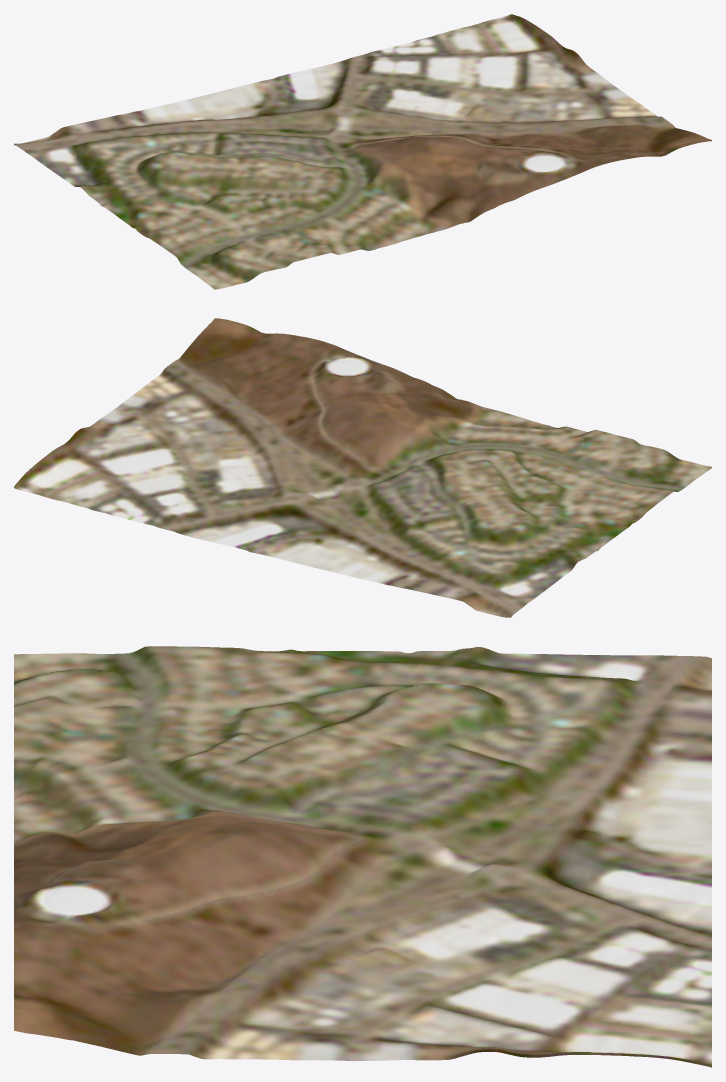
Rendered from terrain_r4_c5.glb.
The picture shows the model from 3 angles, top to bottom: view 1: azimuth 30°, elevation 25°; view 2: azimuth 150°, elevation 25°; view 3: azimuth 270°, elevation 25°; orthographic projection. The views are drawn at different scales.
Visible parts, largest first — view 1: terrain_r4_c5_lod0; view 2: terrain_r4_c5_lod0; view 3: terrain_r4_c5_lod0.
Part boxes in pixels (left/top/right/bottom): terrain_r4_c5_lod0: left=14, top=14, right=711, bottom=289; terrain_r4_c5_lod0: left=14, top=318, right=711, bottom=617; terrain_r4_c5_lod0: left=14, top=646, right=711, bottom=1067.
Size of the model in its own units: 1125 by 80.89 by 787.
1 material, 1 textured.
